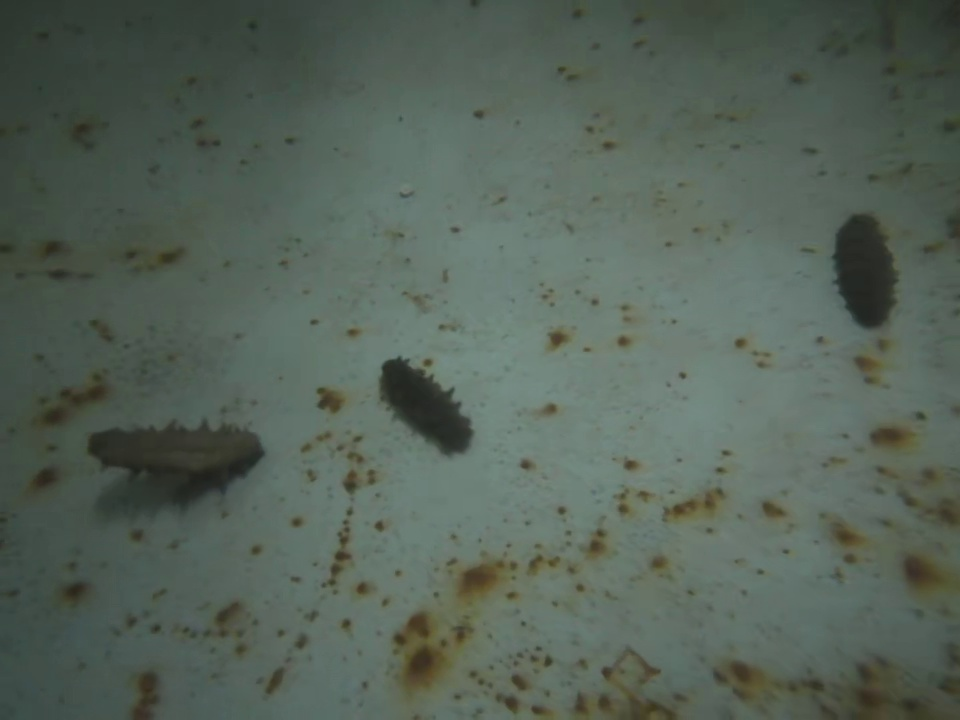seacucumber: (84, 417, 273, 478), (378, 357, 479, 452), (837, 207, 899, 329)
